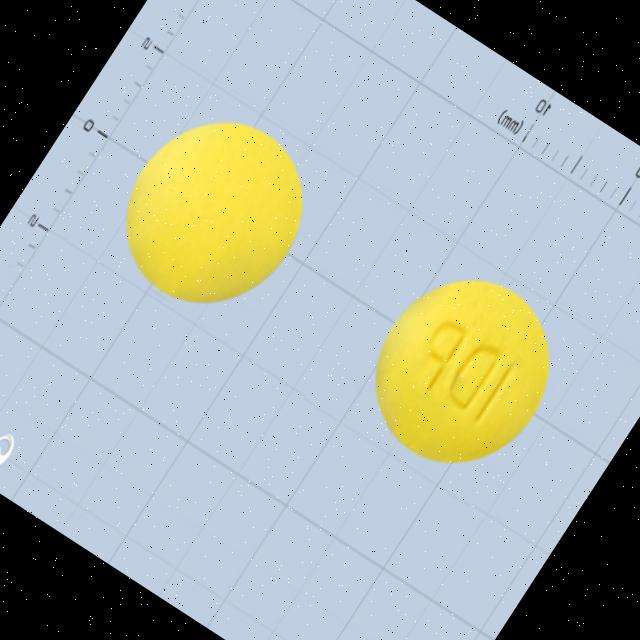Ciracle: (82, 76, 340, 344), (334, 240, 589, 502)
